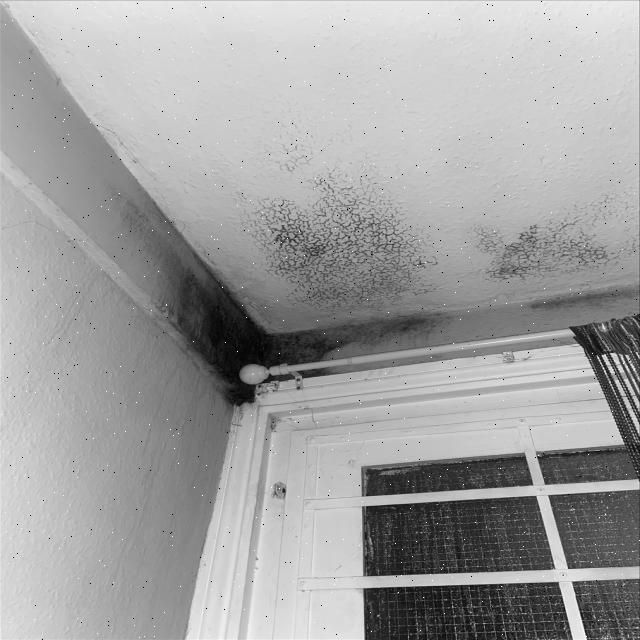stain marks: (105, 120, 640, 424)
